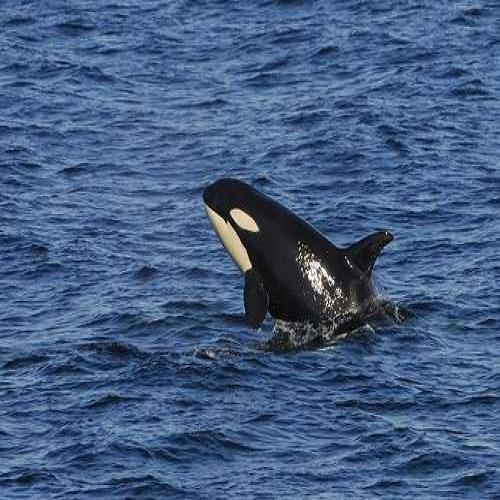killer_whale-endangered: (197, 164, 391, 341)
